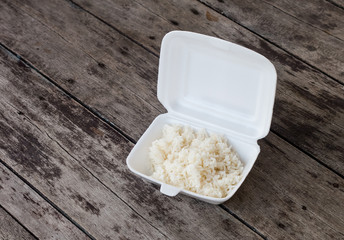styrofoam: (124, 29, 278, 206)
